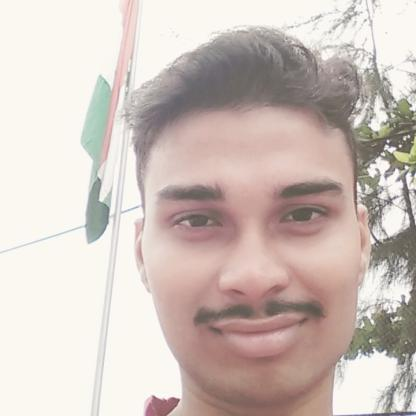without_mask: (139, 188, 369, 397)
